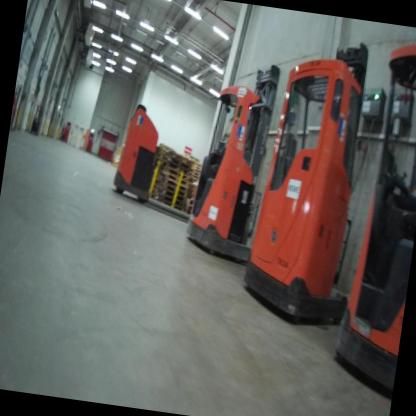forklift: (234, 18, 390, 341), (332, 27, 416, 397), (179, 46, 307, 279)
pallet_truck: (104, 96, 217, 230)
